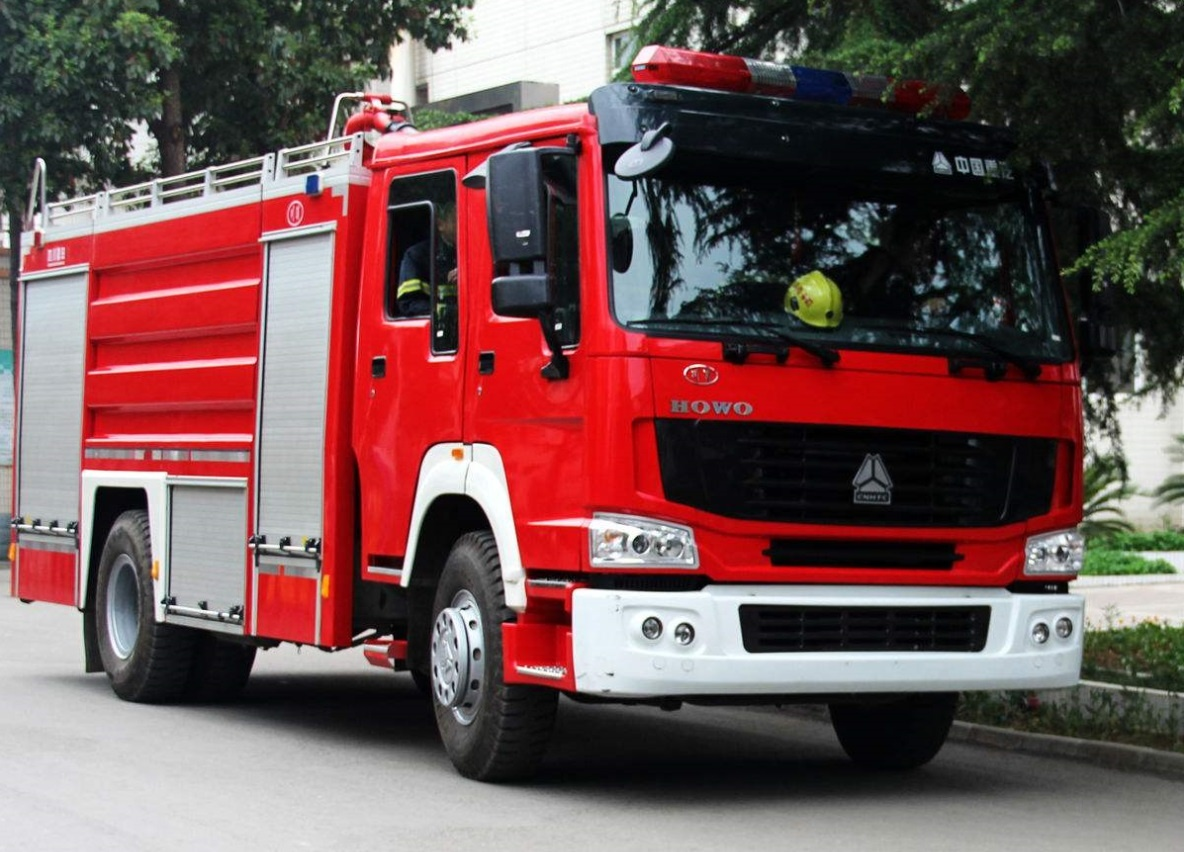fire engine: (14, 52, 1087, 787)
